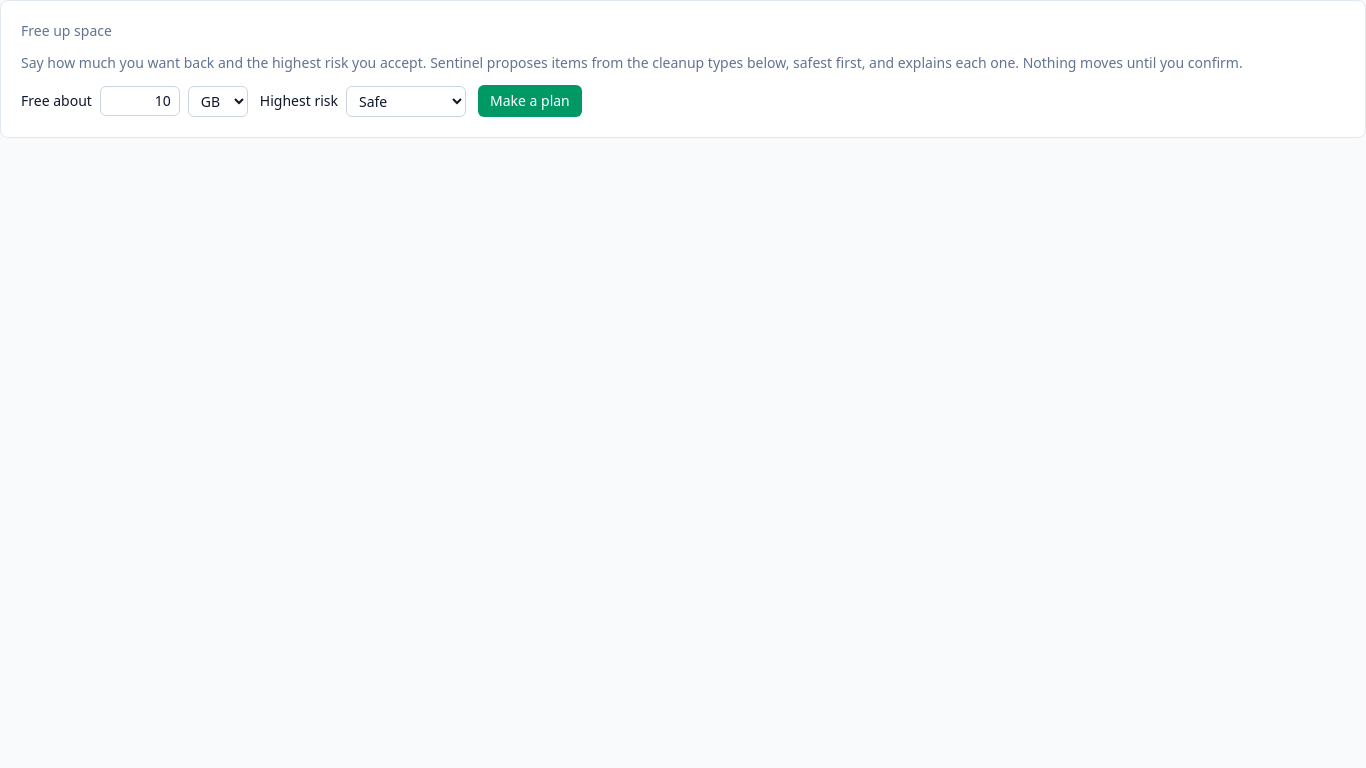
Test case: running a plan › moves nothing until the full list is confirmed, then sends exactly the plan's items
Click the button "Make a plan" at (530, 101), box [478,85,582,117]
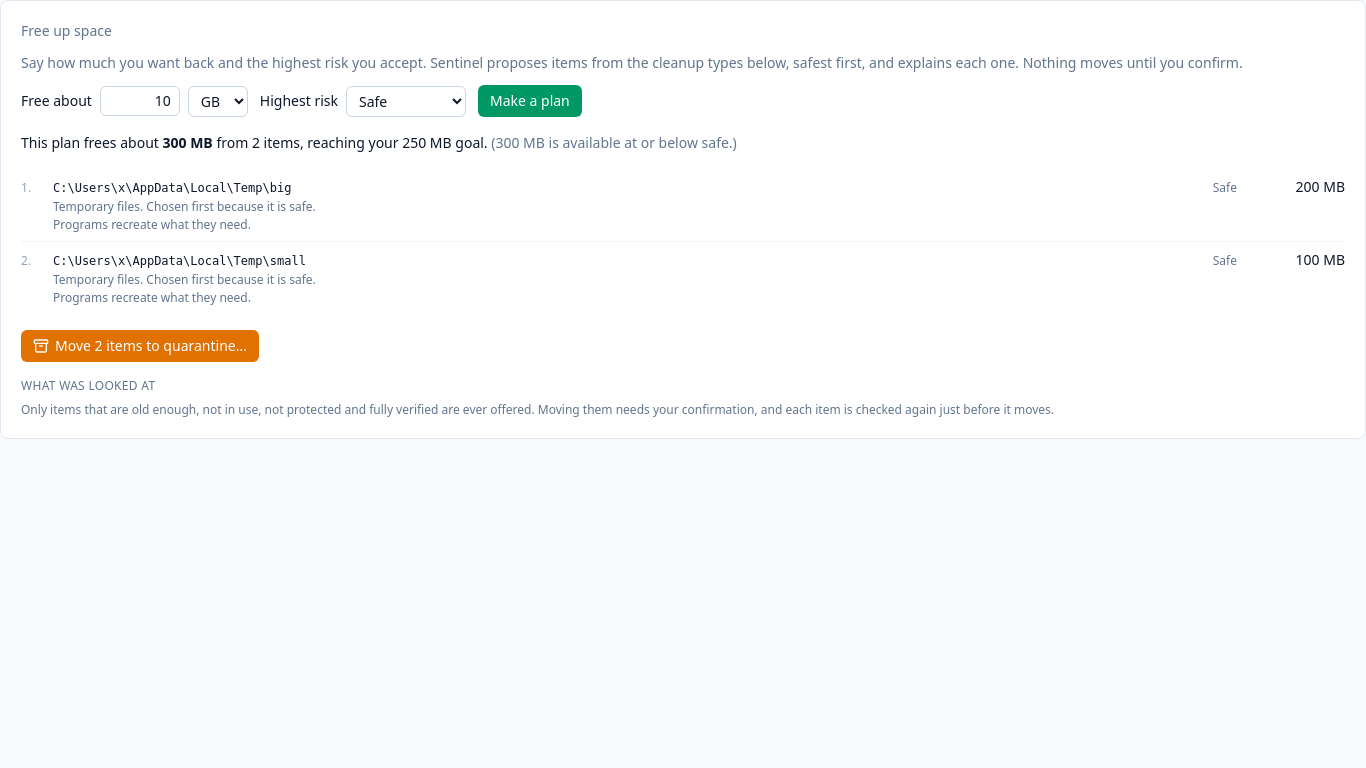
Click the button "Move 2 items to quarantine…" at (140, 346), box [21,330,259,362]
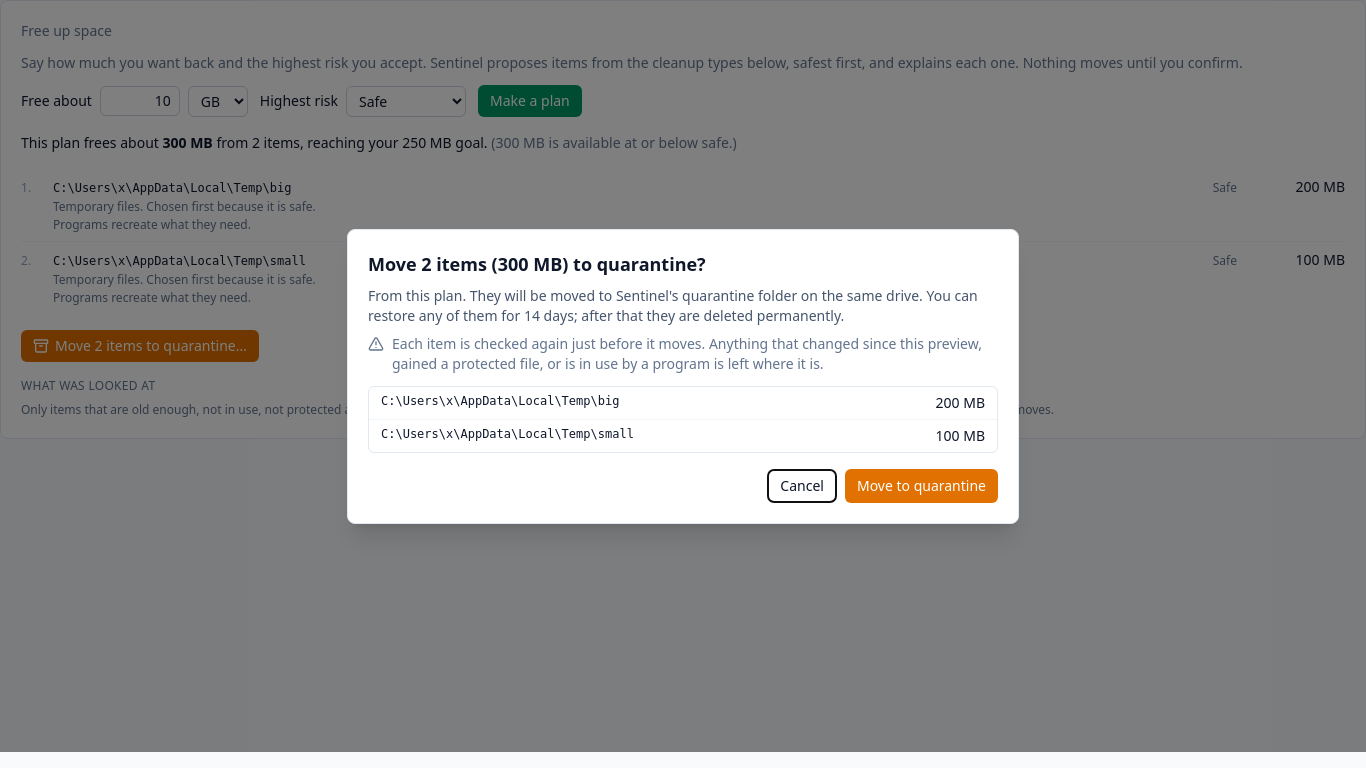
expect the dialog shows "C:\\Users\\x\\AppData\\Local\\Temp\\big": met, box [381,394,619,408]
expect the dialog shows "C:\\Users\\x\\AppData\\Local\\Temp\\small": met, box [381,426,634,440]
Click the button "Cancel" at (802, 486), box [767,468,837,502]
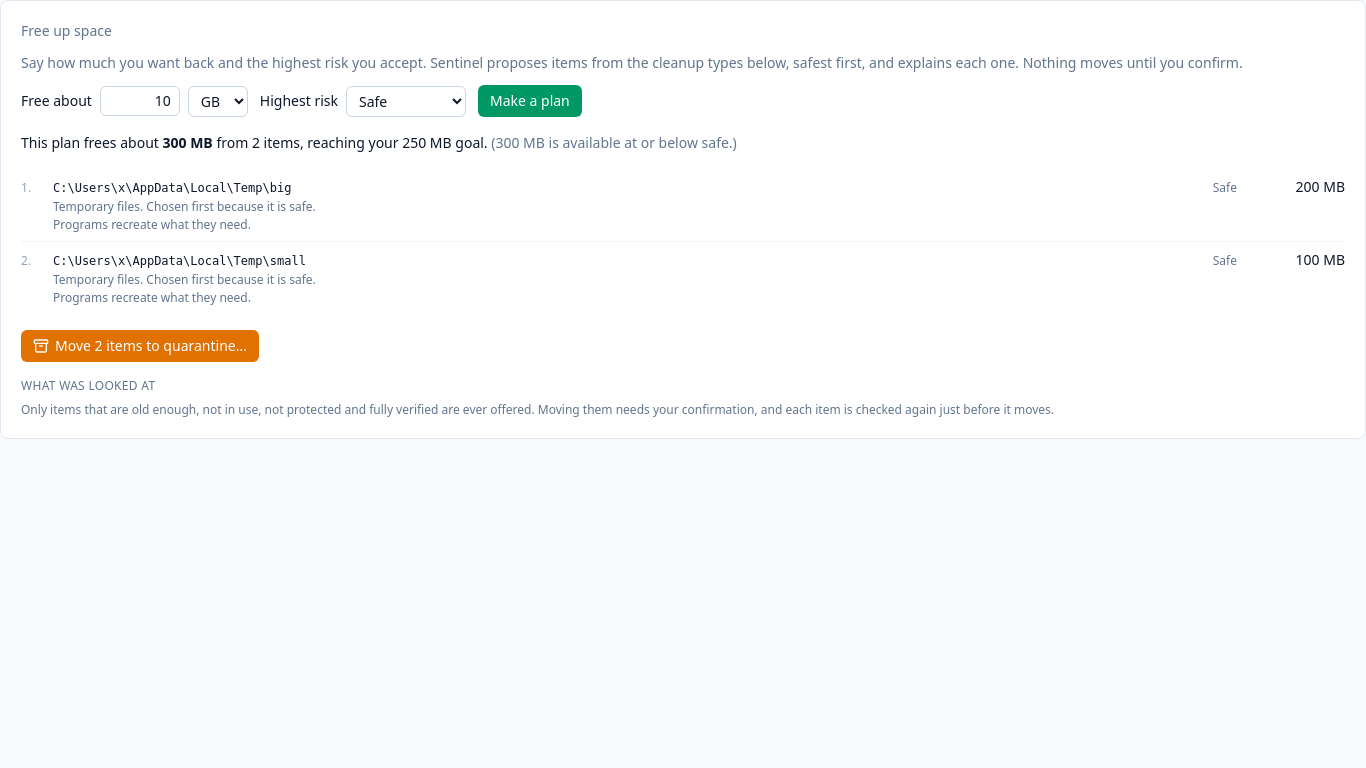
Click the button "Move 2 items to quarantine…" at (140, 346), box [21,330,259,362]
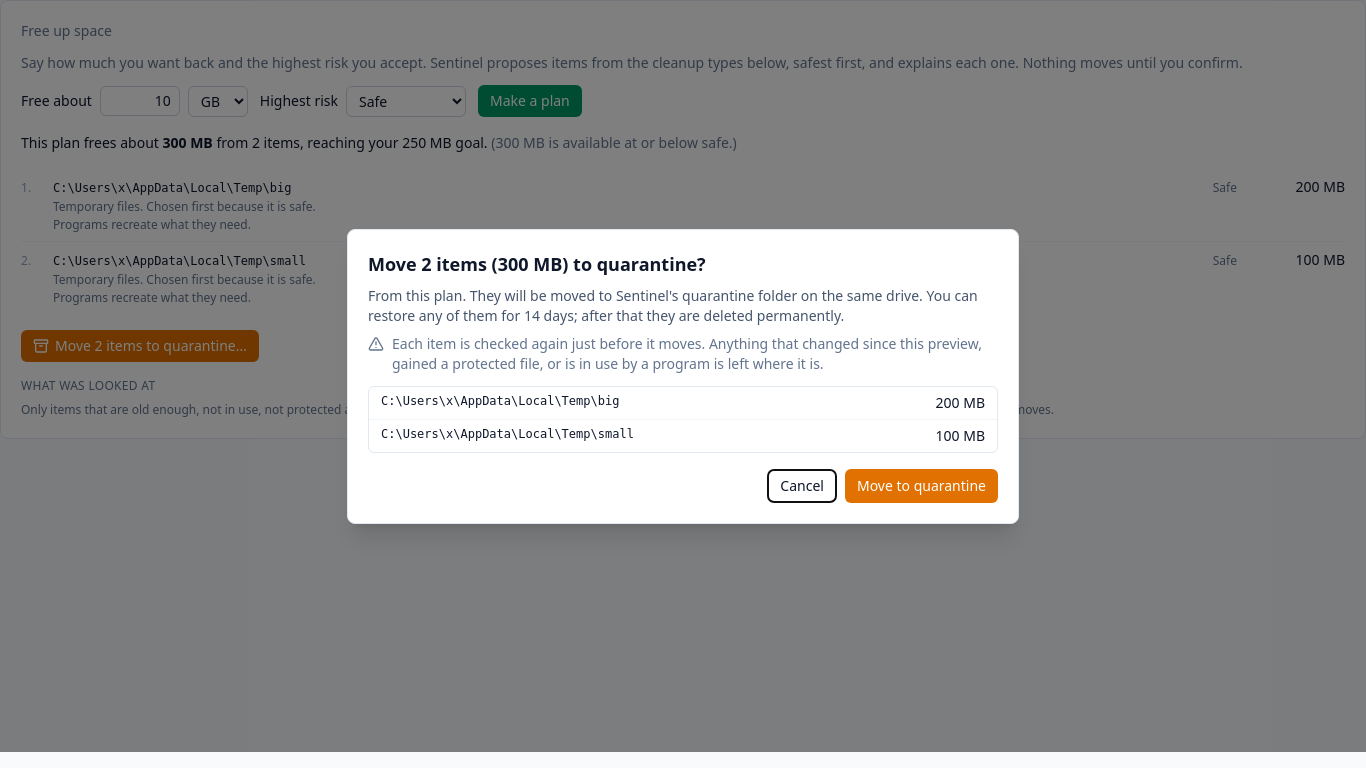
Click the button "Move to quarantine" at (922, 486), box [845,468,998,502]
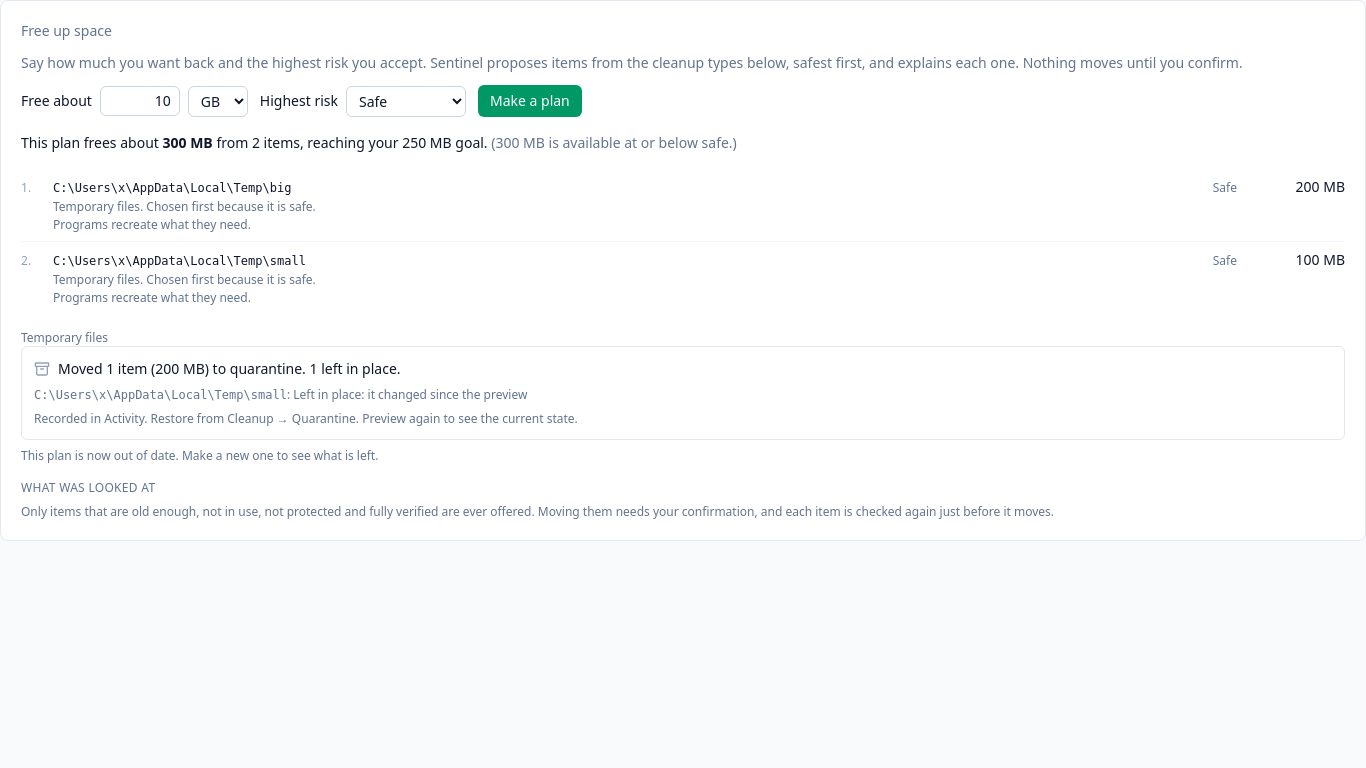
expect the message shows "Moved 1 item": met, box [21,346,1345,440]
expect the message shows "it changed since the preview": met, box [293,386,527,403]
expect the button "to quarantine…" is gone: met
